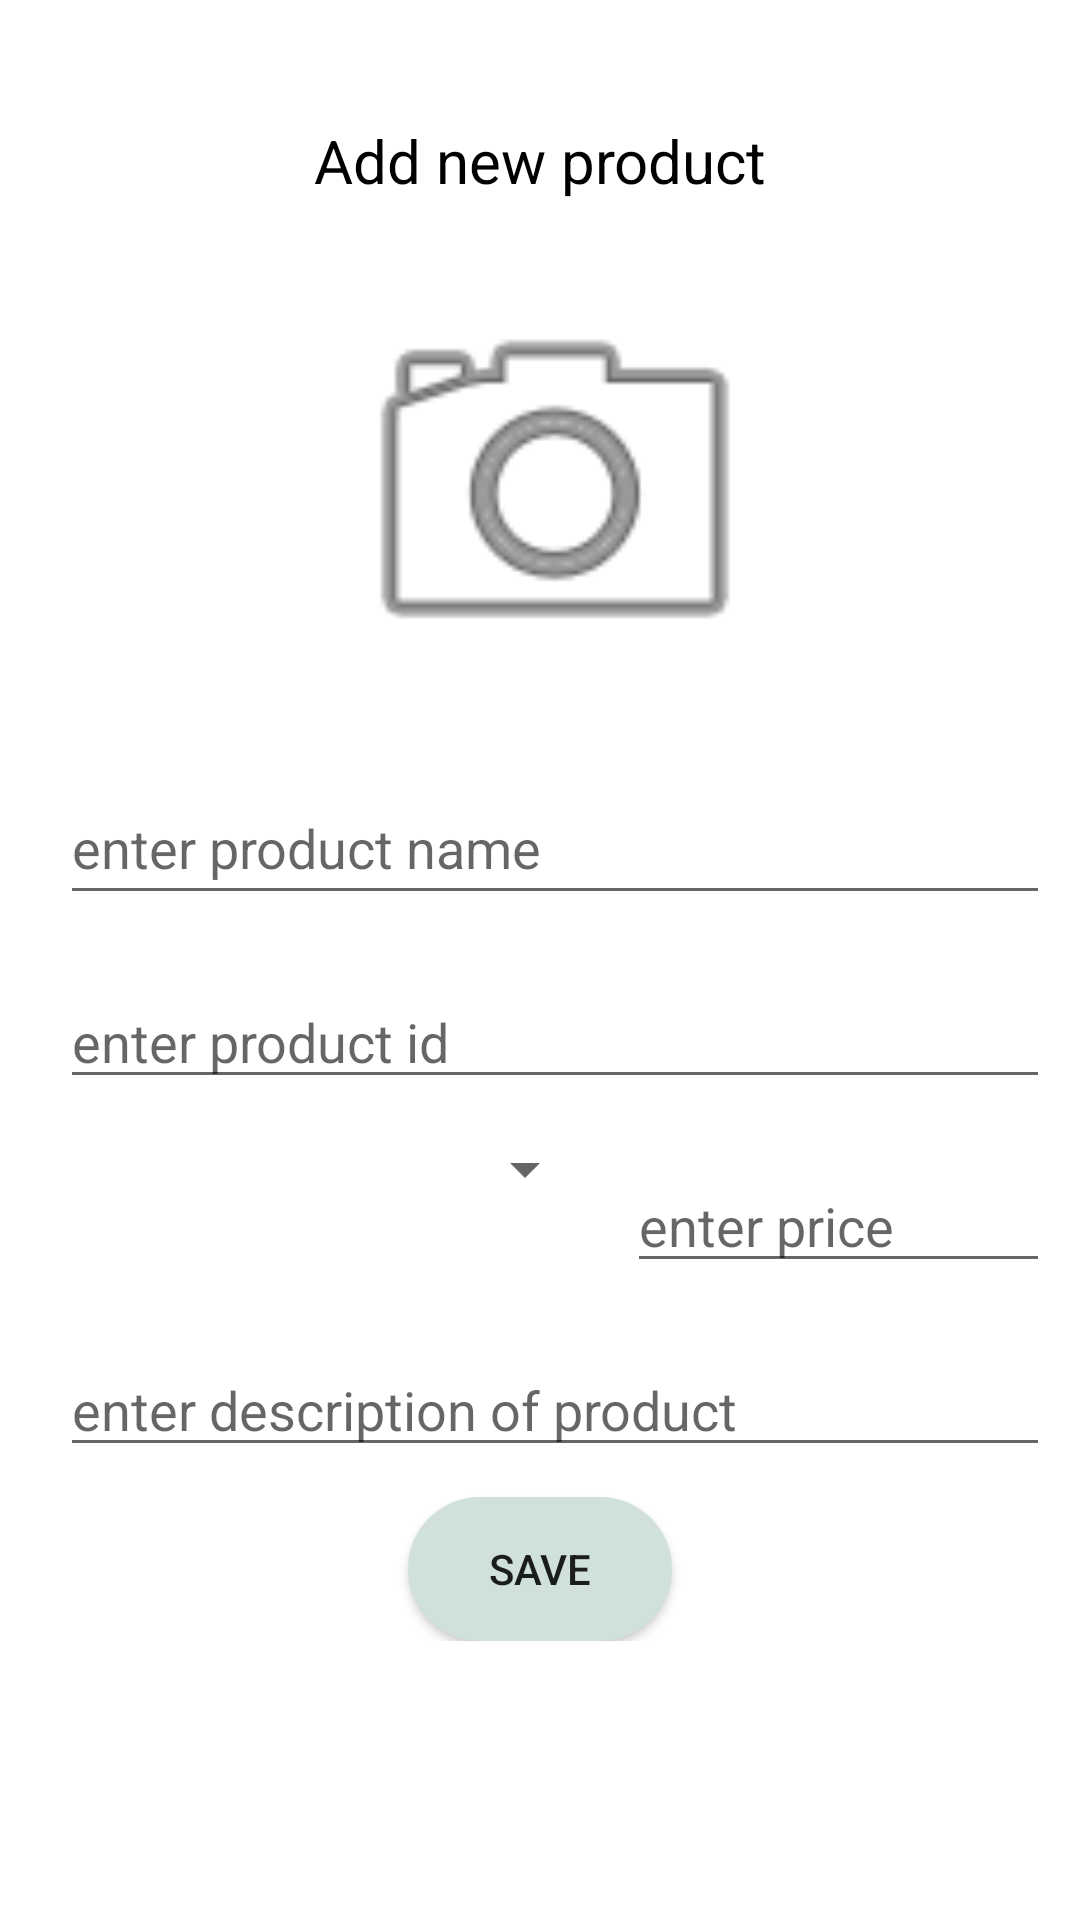

Screen size 1080*1920. Icon name, then its center in pixels as point (x, y):
camera: point (555, 479)
